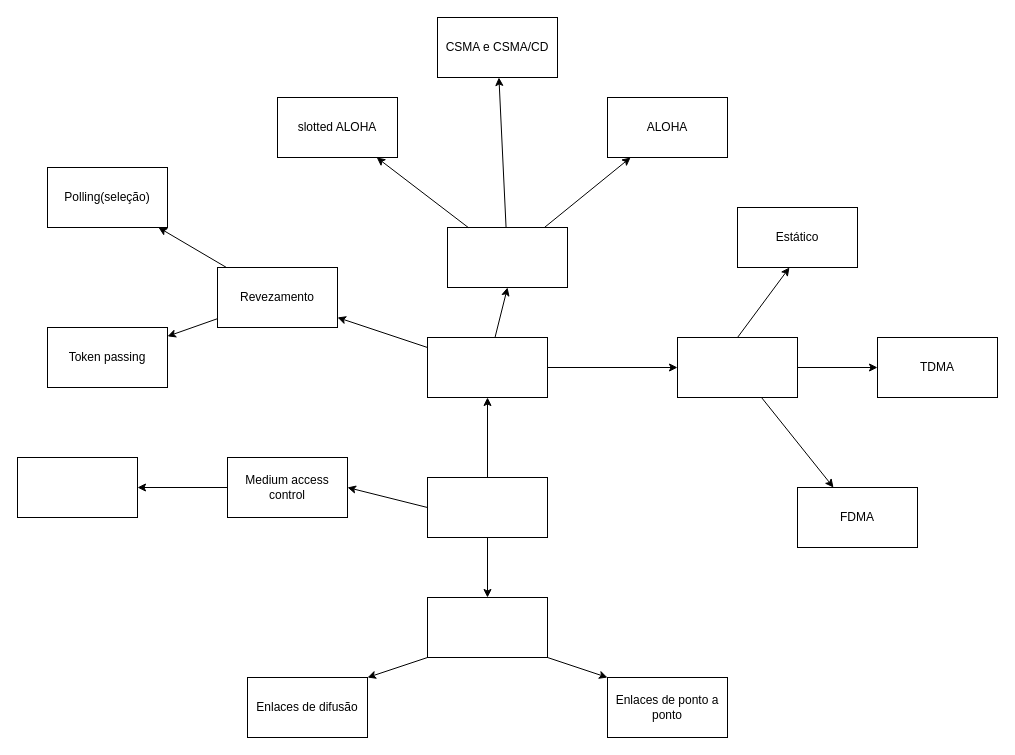
Image size: 1015x755. Some labels were removed from this diagram. Here are the shapes that lost their labels. From the top down, the centre of each, then its label:
At pixel 507 257: "Acesso aleatório - dinâmico".
At pixel 487 367: "Caracteristicas principais".
At pixel 737 367: "Particionamento de canais".
At pixel 77 487: "Protocolos de acesso múltiplo".
At pixel 487 507: "Controle de acesso ao meio".
At pixel 487 627: "Tipos de enlaces".
